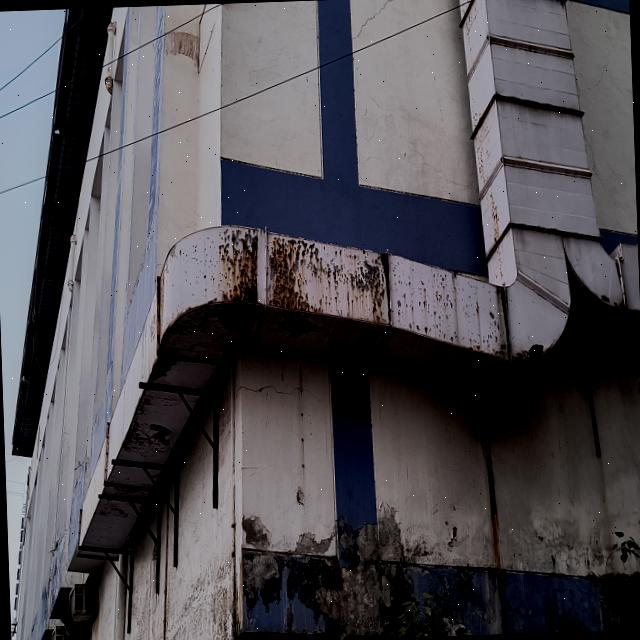Corrosion: (266, 232, 389, 323), (162, 302, 259, 356), (447, 344, 550, 394), (212, 226, 259, 302), (120, 397, 174, 460), (275, 312, 321, 337)
Crack: (351, 0, 395, 40)
Moss growth due to damping: (250, 556, 341, 632), (599, 581, 640, 630)
Paint Peeling: (316, 501, 402, 638), (243, 551, 279, 593)
Scaling: (292, 530, 334, 555), (242, 515, 271, 549)
